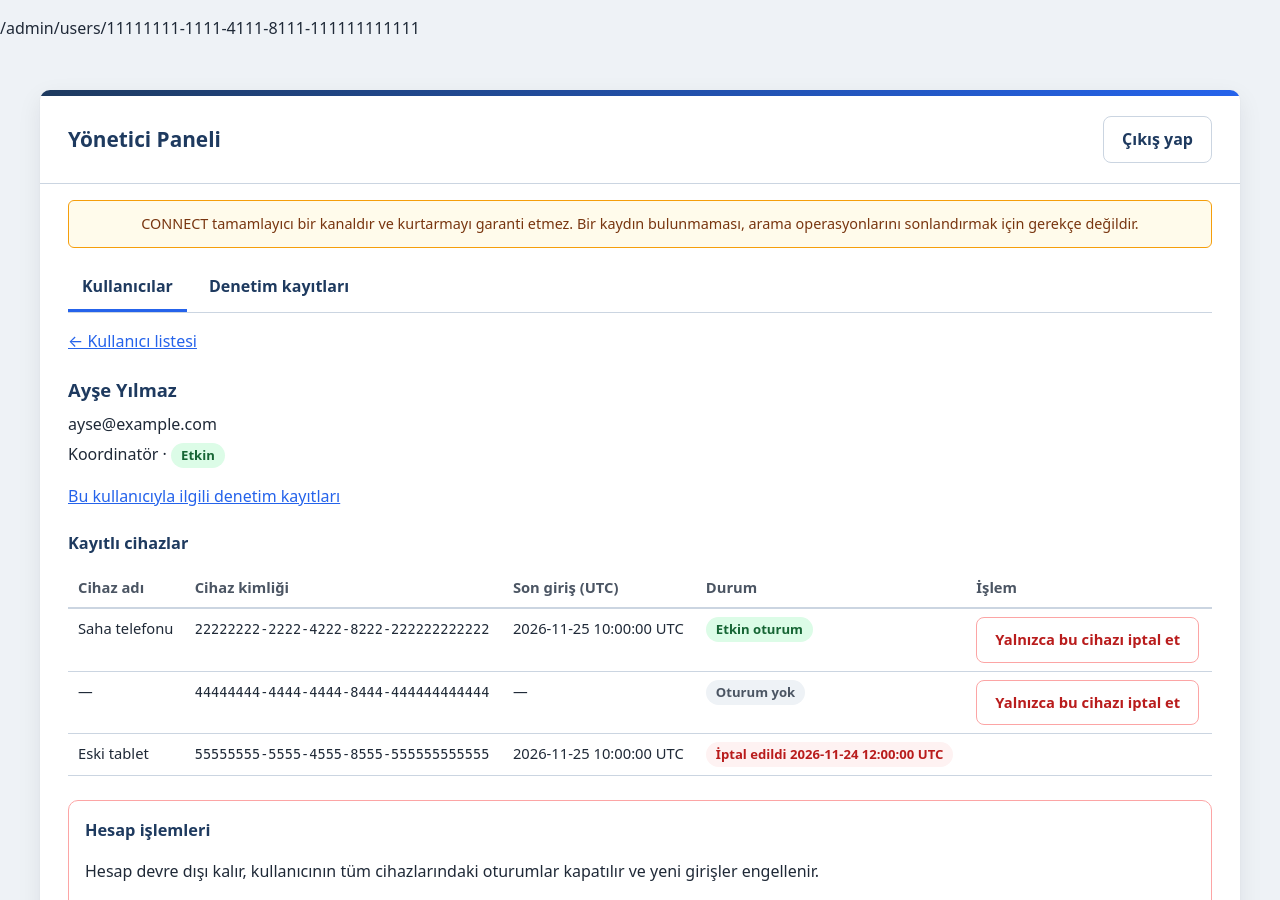
Test: UserDevicesPage › opens the device dialog with its own wording and focus on Vazgeç
The width and height of the screenshot is (1280, 900).
Click the button with aria-label "Yalnızca bu cihazı iptal et: Saha telefonu": click(1088, 640) x1=976 y1=617 x2=1199 y2=663
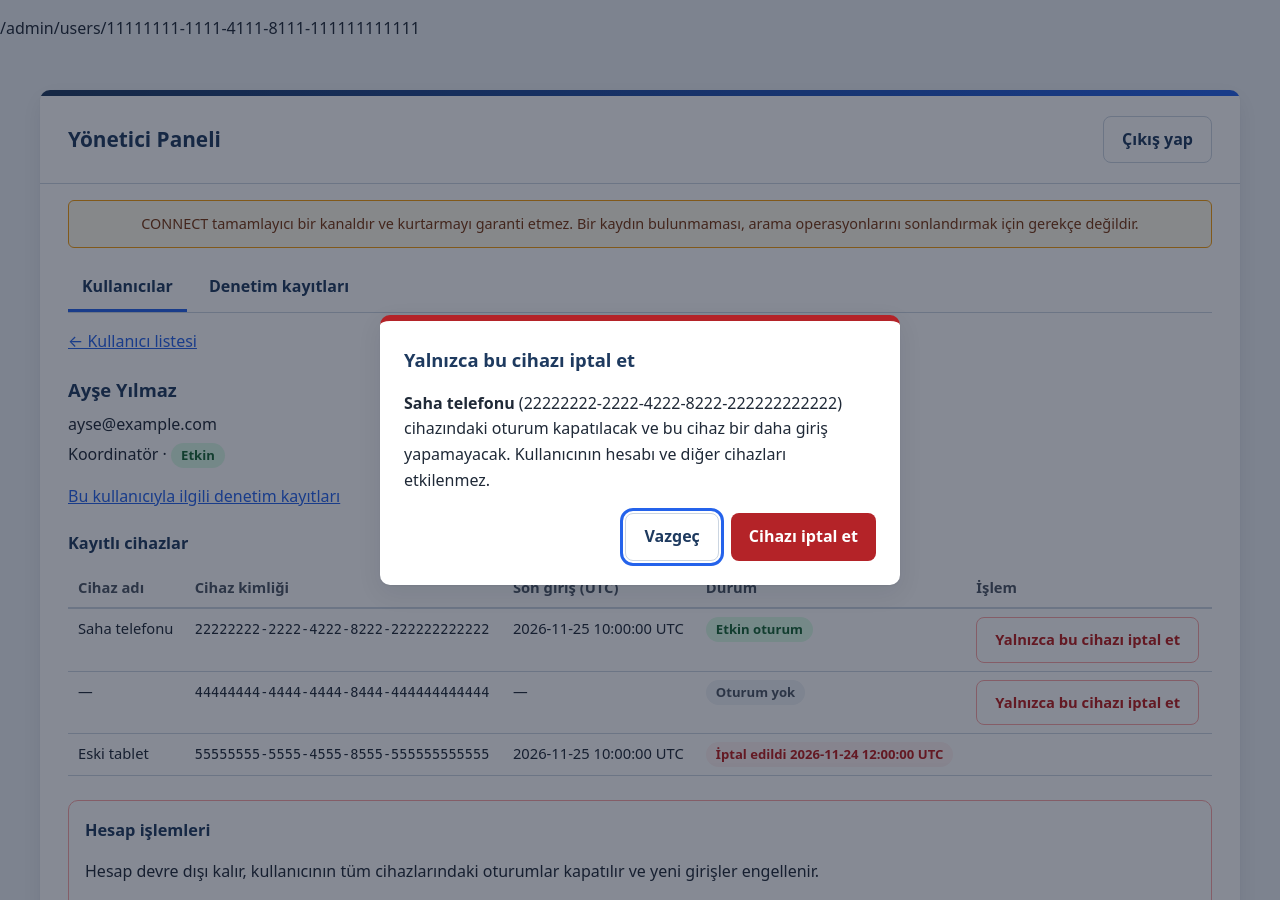
Expected: the dialog "Yalnızca bu cihazı iptal et" does not show "TÜM cihazlarındaki", x1=380 y1=315 x2=900 y2=585
Expected: the dialog "Yalnızca bu cihazı iptal et" shows "diğer cihazları etkilenmez", x1=404 y1=392 x2=842 y2=490
Expected: the dialog "Yalnızca bu cihazı iptal et" shows "22222222-2222-4222-8222-222222222222", x1=524 y1=392 x2=837 y2=414
